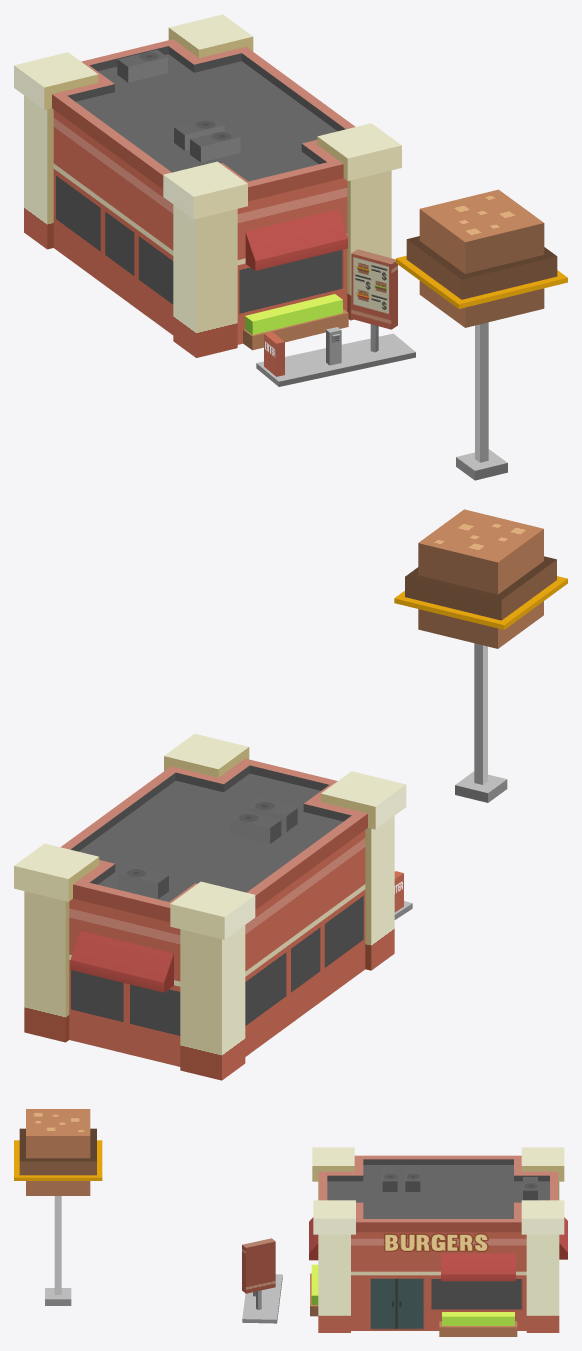
Rendered from burguer_shop.glb.
3 renders of one model, top to bottom at view 1: azimuth 30°, elevation 25°; view 2: azimuth 150°, elevation 25°; view 3: azimuth 270°, elevation 25°, orthographic. The views are drawn at different scales.
Visible parts, largest first — view 1: burger_shop_base_mesh, burger_shop_sign_mesh, burger_shop_drivethru_mesh; view 2: burger_shop_base_mesh, burger_shop_sign_mesh; view 3: burger_shop_base_mesh, burger_shop_sign_mesh, burger_shop_drivethru_mesh.
Boxes of the visible parts, x1=… form: burger_shop_base_mesh: x1=14, y1=14, x2=401, y2=357; burger_shop_sign_mesh: x1=396, y1=189, x2=567, y2=480; burger_shop_drivethru_mesh: x1=256, y1=249, x2=415, y2=386; burger_shop_base_mesh: x1=14, y1=733, x2=406, y2=1080; burger_shop_sign_mesh: x1=394, y1=509, x2=567, y2=802; burger_shop_base_mesh: x1=309, y1=1147, x2=567, y2=1336; burger_shop_sign_mesh: x1=14, y1=1109, x2=102, y2=1305; burger_shop_drivethru_mesh: x1=242, y1=1238, x2=282, y2=1323.
Size of the model in its own units: 0.1222 by 0.1386 by 0.3911.
Materials: 3 (3 with a texture image).
